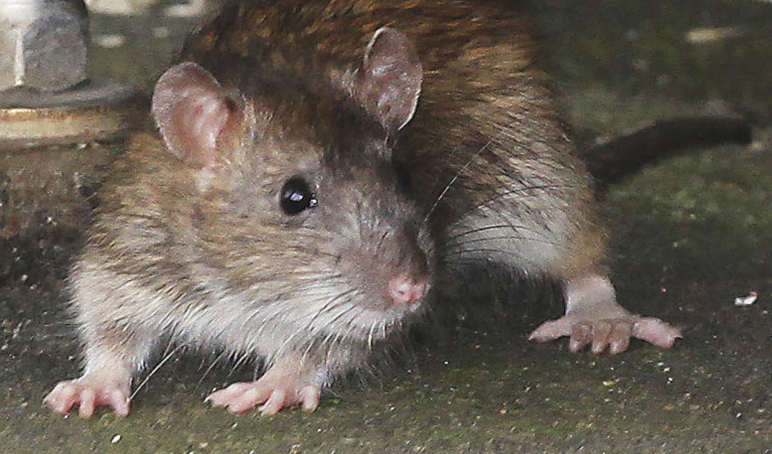rat: (30, 1, 709, 427)
